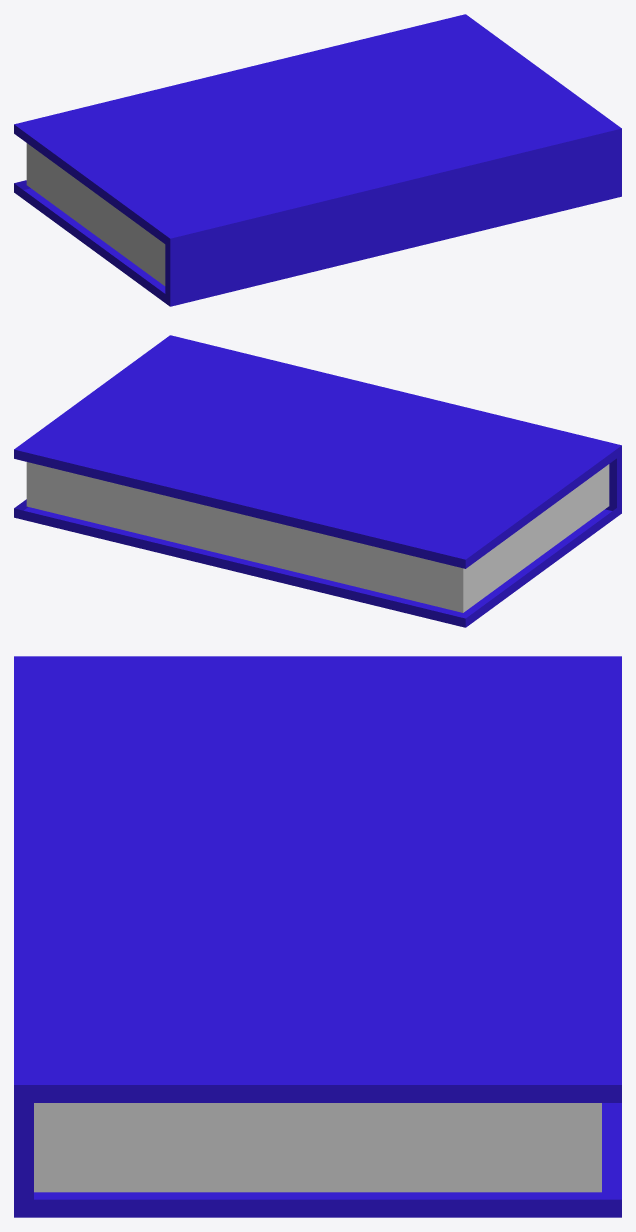
Rendered from bookblue.glb.
3 renders of one model, top to bottom at view 1: azimuth 30°, elevation 25°; view 2: azimuth 150°, elevation 25°; view 3: azimuth 270°, elevation 25°, orthographic. The views are drawn at different scales.
Visible parts, largest first — view 1: Cube, Cube.001; view 2: Cube, Cube.001; view 3: Cube, Cube.001.
Boxes of the visible parts, x1,y1,x2,y2 form: Cube: (14,14,621,306); Cube.001: (26,143,165,285); Cube: (14,335,621,627); Cube.001: (26,462,609,612); Cube: (14,656,621,1217); Cube.001: (34,1103,601,1192).
Size of the model in its own units: 3.23 by 0.4653 by 1.93.
